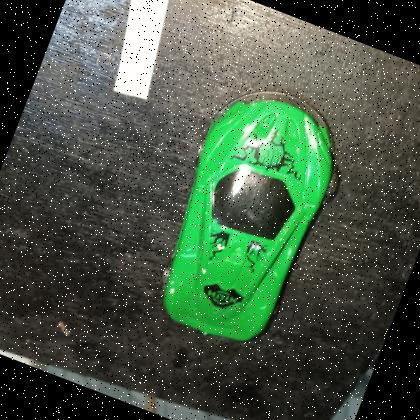Car: (163, 97, 338, 342)
